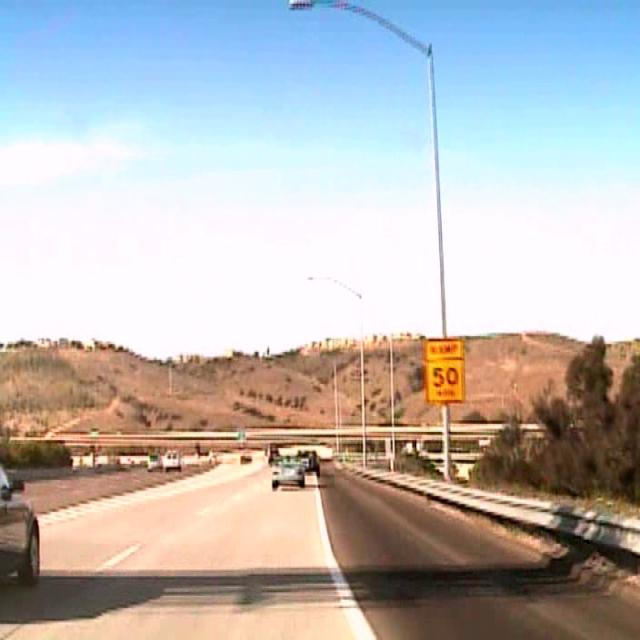speedLimit50: (423, 337, 465, 407)
